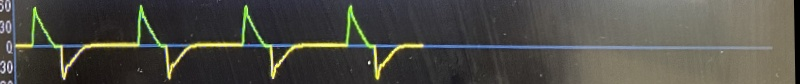normal_flow: (11, 0, 428, 84)
